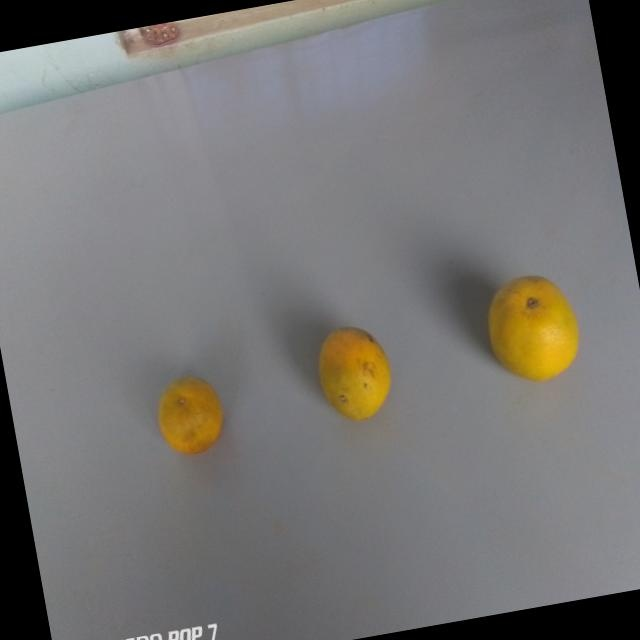agrume: (467, 259, 590, 397), (309, 313, 403, 433), (145, 351, 235, 466)
